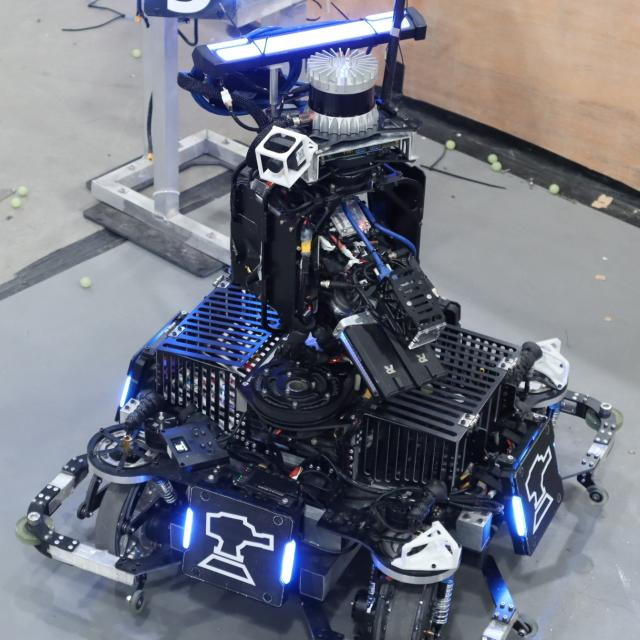Bs: (180, 495, 296, 599), (510, 433, 564, 541)
